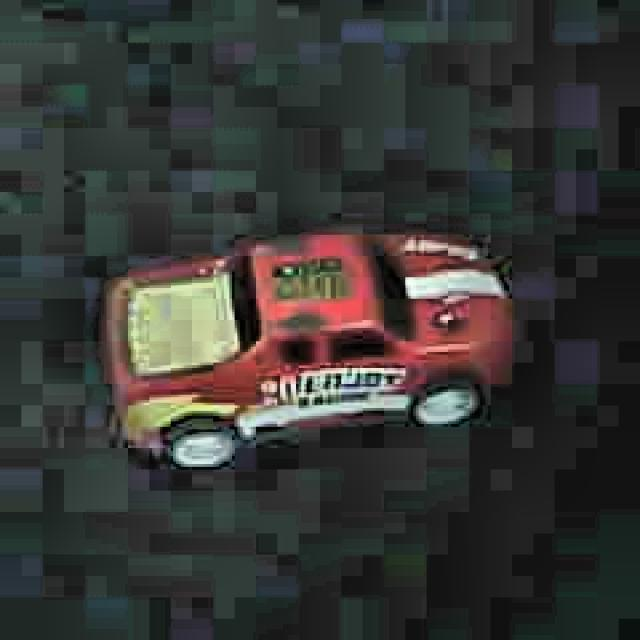car: (98, 226, 518, 479)
